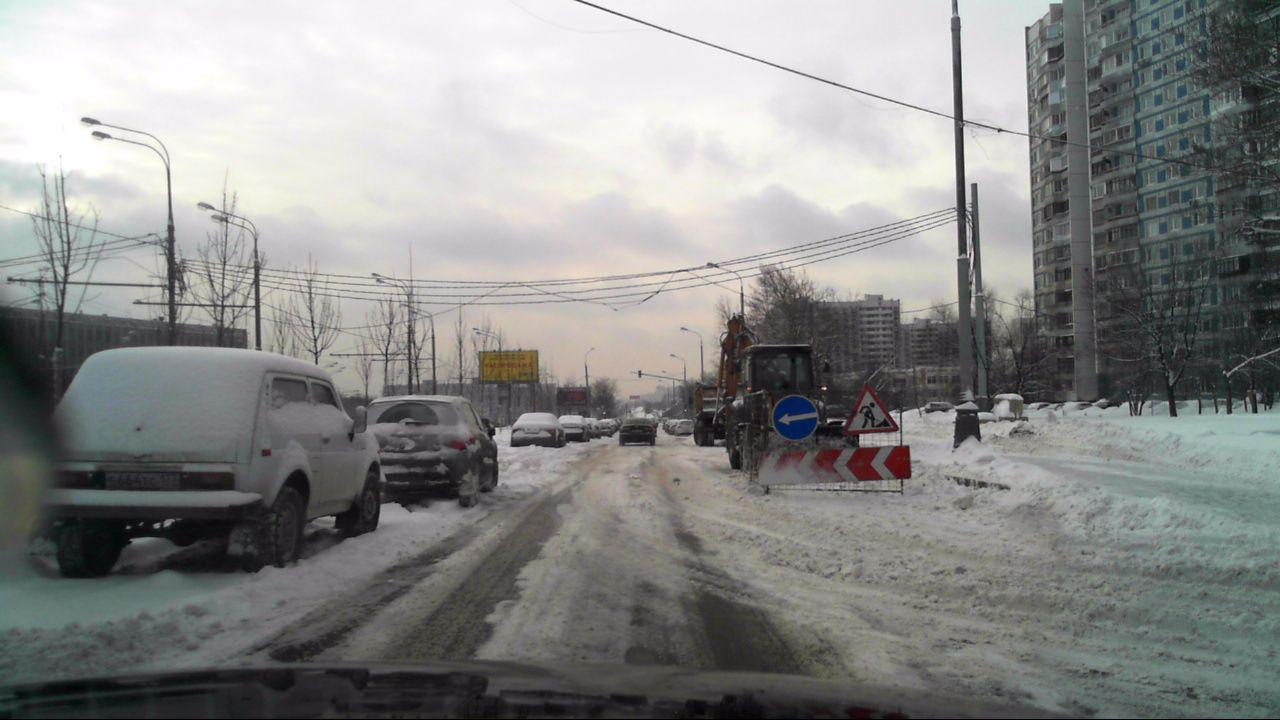1_25: (840, 383, 897, 432)
4_2_2: (772, 394, 816, 438)
8_22_2: (758, 447, 914, 486)
